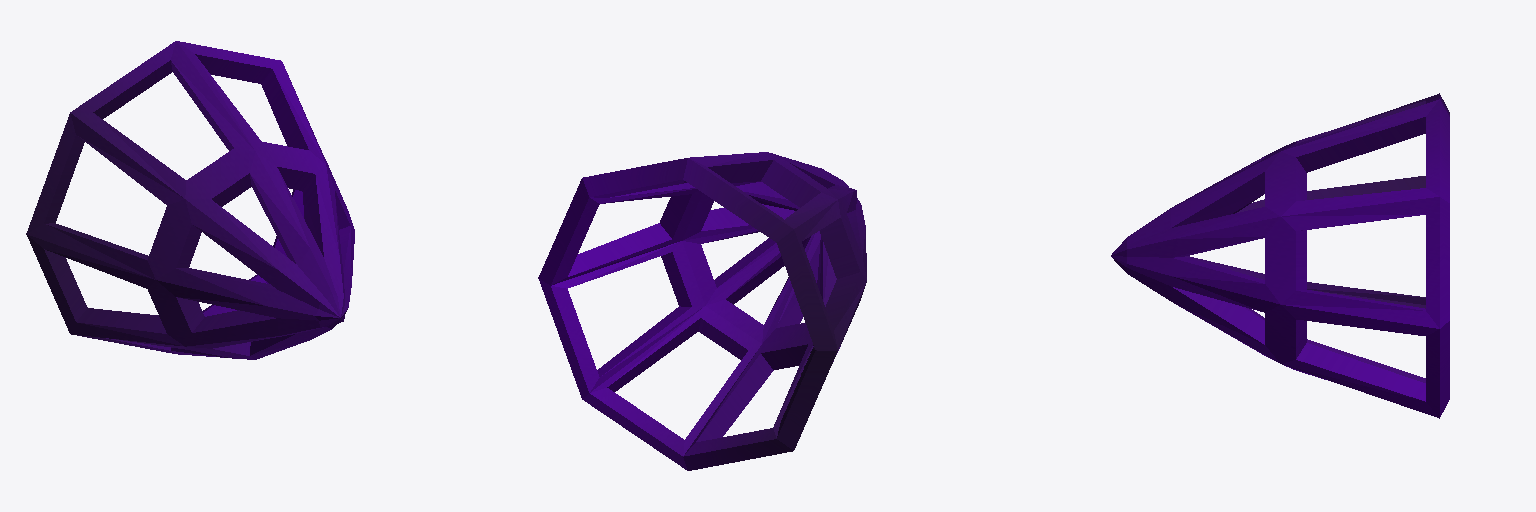
The picture shows the model from 3 angles: view 1: azimuth 30°, elevation 25°; view 2: azimuth 150°, elevation 25°; view 3: azimuth 270°, elevation 25°; orthographic projection.
Parts seen in each view (by area): view 1: Cone.003; view 2: Cone.003; view 3: Cone.003.
Boxes of the visible parts, box(x1,y1,x2,y2) form: Cone.003: box(26, 41, 354, 359); Cone.003: box(538, 152, 866, 470); Cone.003: box(1111, 93, 1449, 418).
Bounding box in the file's own units: 2.72 × 2.72 × 2.67.
1 materials, 1 textured.